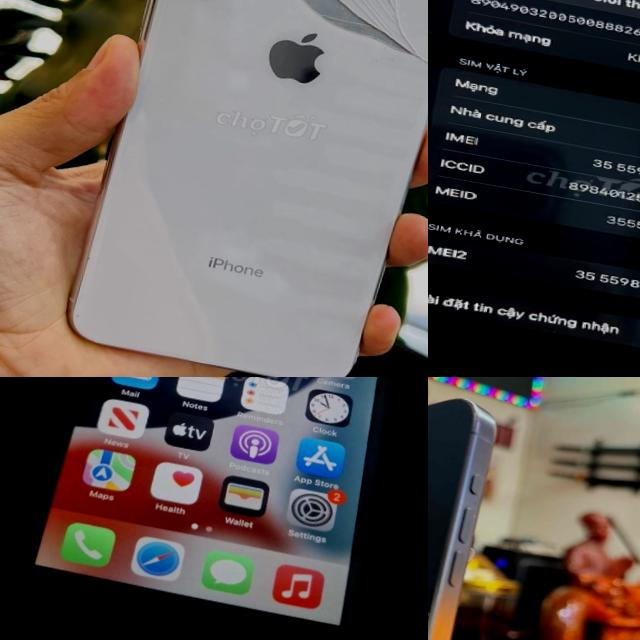gen_15: (428, 377, 523, 640)
gen_6: (0, 377, 428, 640)
gen_7_8: (428, 0, 640, 377)
gen_x_xs: (57, 0, 428, 377)
